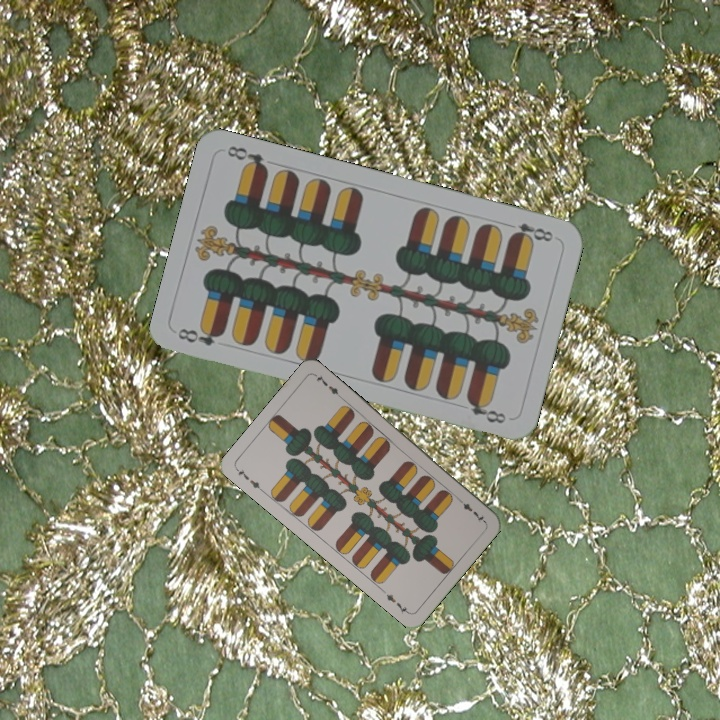E7: (232, 464, 266, 495), (454, 494, 487, 525)
E8: (501, 219, 556, 245), (173, 323, 227, 349)
